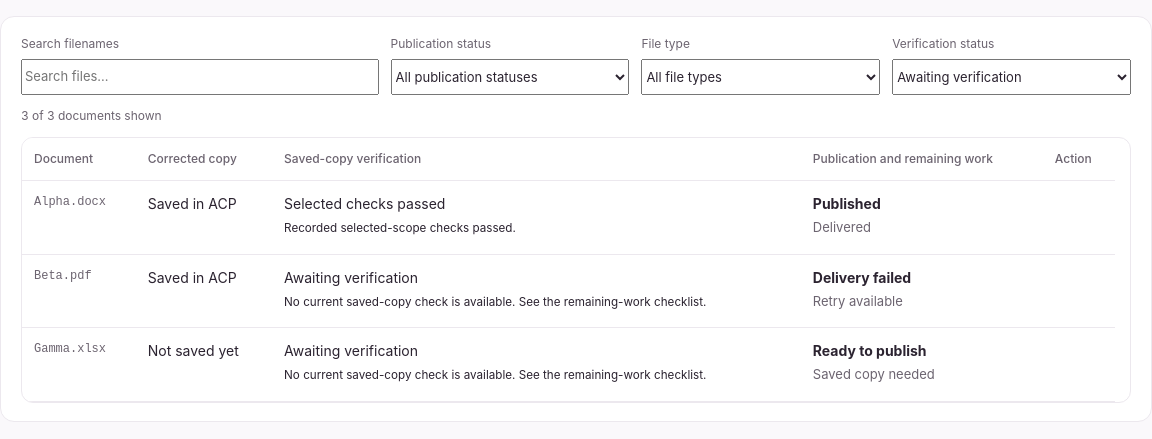
shows honest verification and an initial empty state
Step 1. Select "Awaiting verification" in the dropdown labelled "Verification status" → (1012, 77), box [892, 59, 1131, 95]
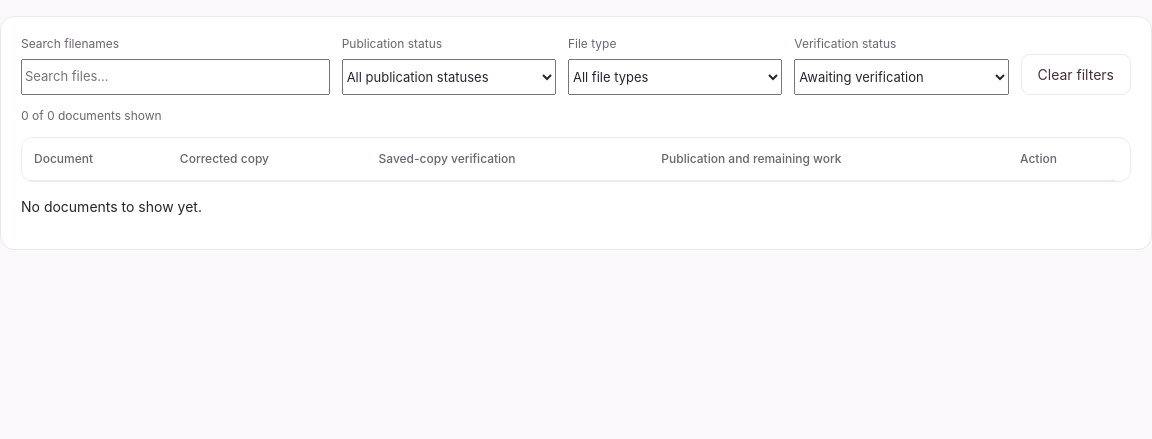
expect the text "No documents to show yet." is shown: met, box [21, 198, 202, 215]
